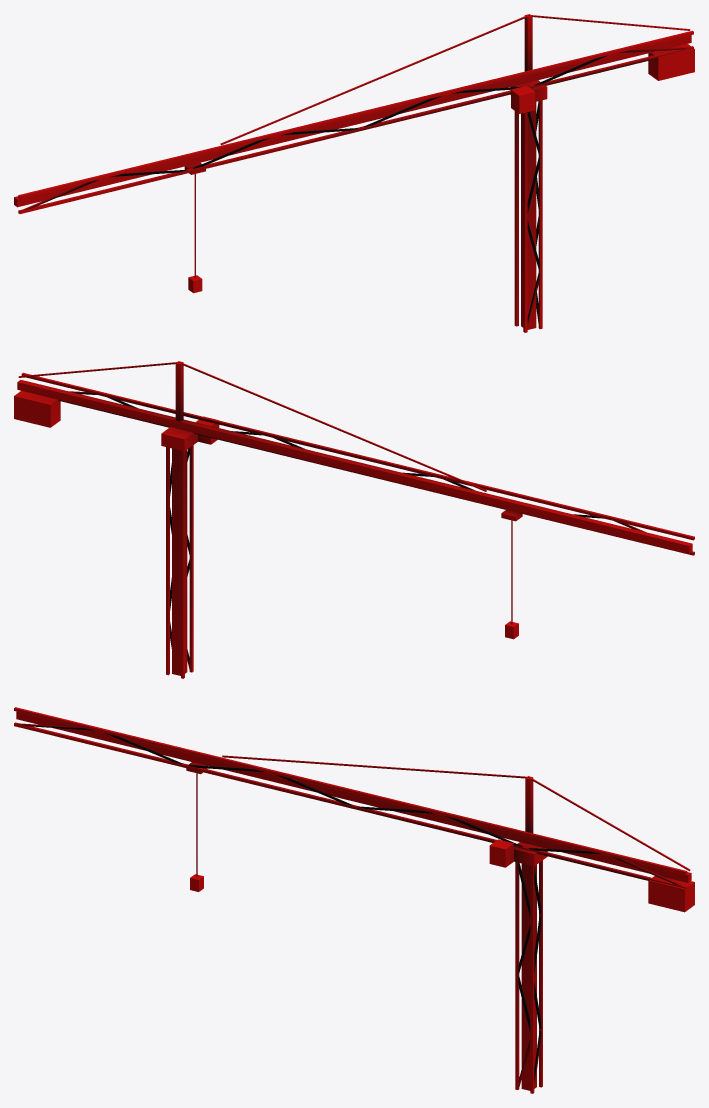
The model's file is tower_crane.glb.
3 renders of one model, top to bottom at view 1: azimuth 30°, elevation 25°; view 2: azimuth 150°, elevation 25°; view 3: azimuth 330°, elevation 25°, orthographic.
Visible parts, largest first — view 1: tower_crane; view 2: tower_crane; view 3: tower_crane.
Part boxes in pixels (x1,y1,x2,y2): tower_crane: [14, 14, 694, 332]; tower_crane: [14, 361, 694, 678]; tower_crane: [14, 707, 694, 1093].
Size of the model in its own units: 92.04 by 40.72 by 5.2.
